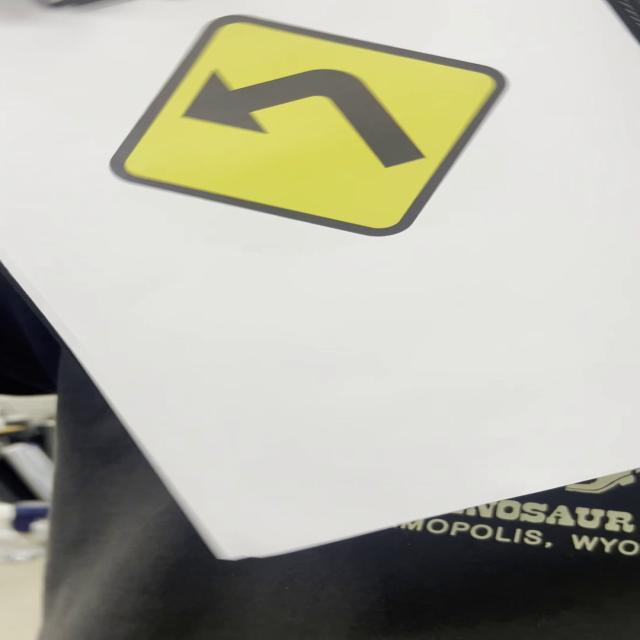left: (109, 17, 503, 238)
